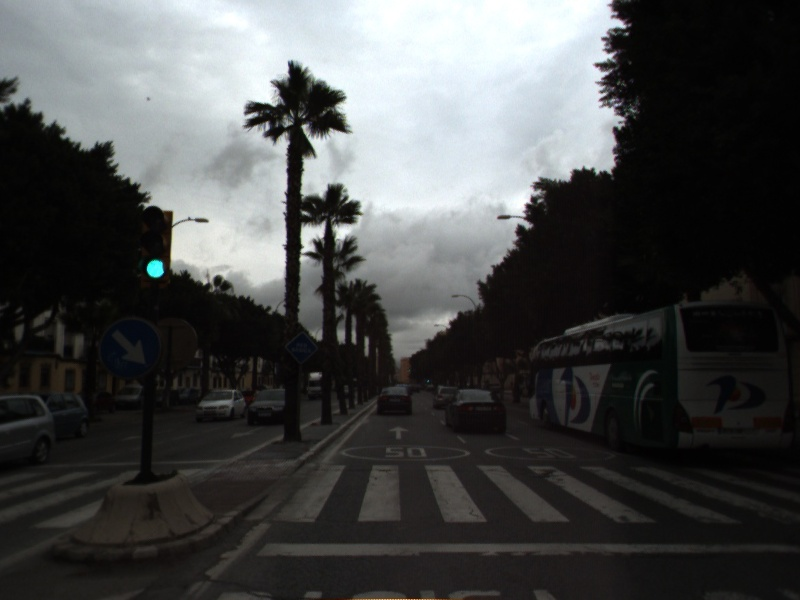STRAIGHT: (387, 424, 411, 442)
